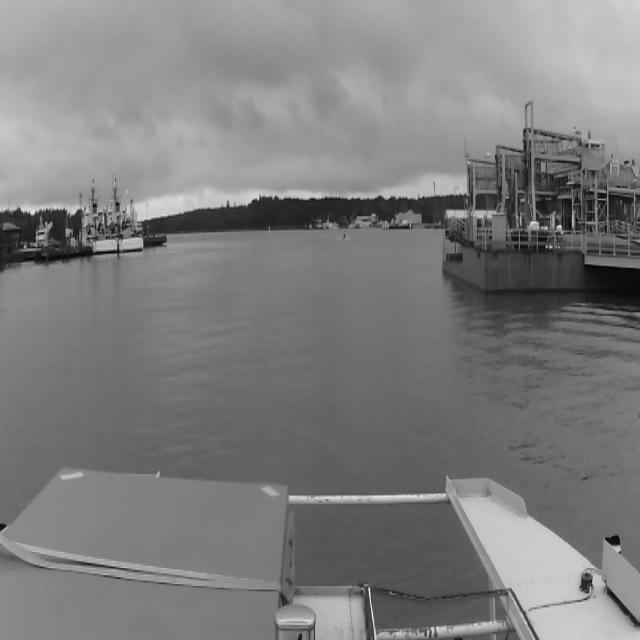buoy: (266, 223, 273, 240)
ship: (80, 170, 124, 260), (112, 175, 138, 253), (339, 229, 349, 242)
